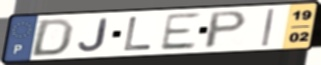D: (28, 17, 77, 57)
E: (157, 12, 202, 52)
I: (260, 7, 277, 47)
J: (77, 17, 110, 53)
L: (122, 16, 154, 52)
P: (202, 10, 250, 51)
